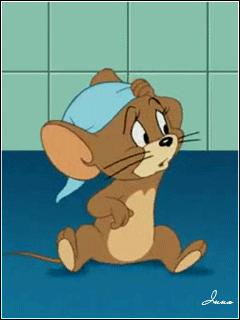jerry: (6, 67, 208, 274)
